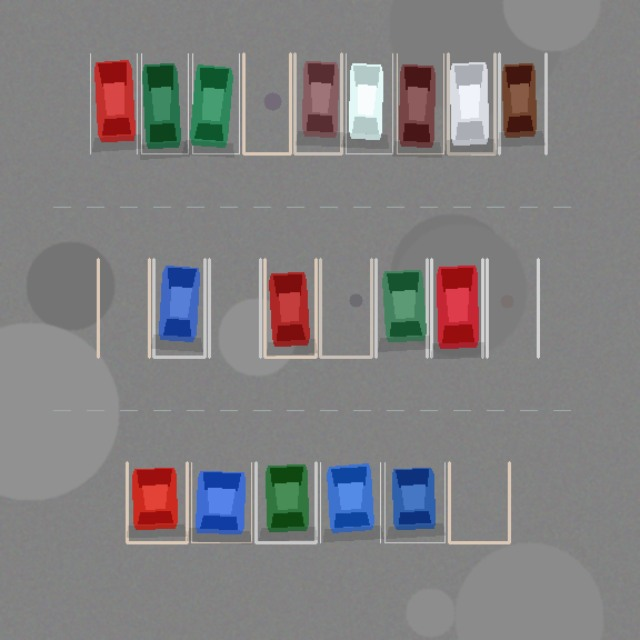space-empty: (98, 259, 149, 357), (209, 259, 260, 357), (320, 259, 371, 357), (487, 259, 538, 357), (449, 462, 509, 542), (243, 53, 290, 153)
space-occupied: (264, 259, 316, 357), (153, 259, 204, 357), (376, 259, 427, 357), (431, 259, 482, 357), (127, 462, 187, 542), (191, 462, 251, 542), (256, 462, 316, 542), (320, 462, 380, 542), (384, 462, 444, 542), (90, 53, 137, 153), (141, 53, 188, 153), (192, 53, 239, 153), (294, 53, 341, 153), (499, 53, 546, 153), (346, 53, 392, 153), (397, 53, 443, 153), (448, 53, 494, 153)
